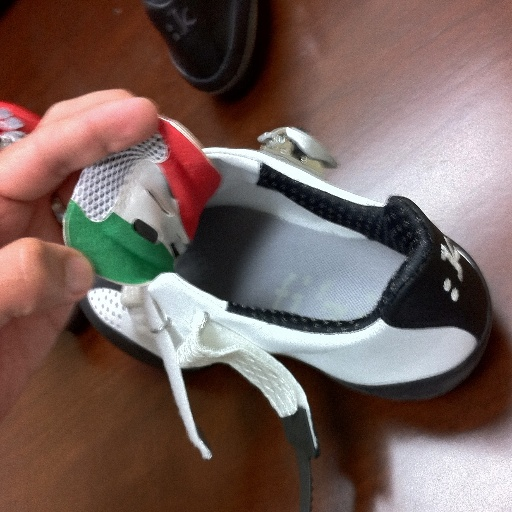hand: (0, 66, 166, 250)
